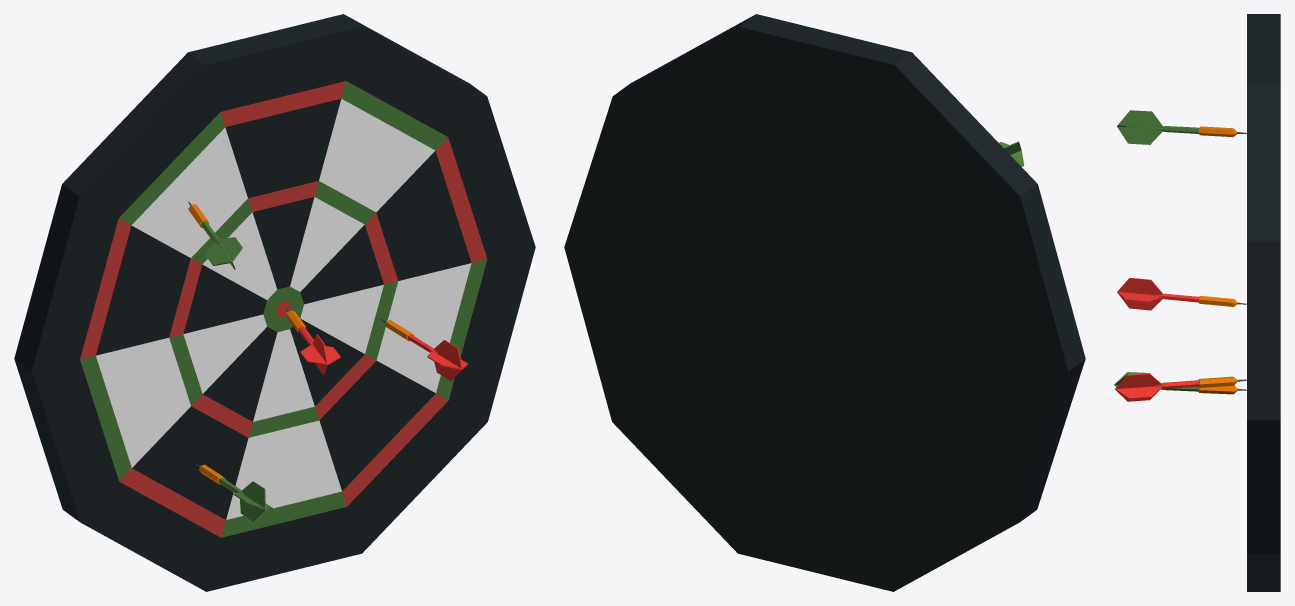
The model's file is SM_Props_Darts_01.fbx.
3 views of the same model, side by side, from view 1: azimuth 30°, elevation 25°; view 2: azimuth 150°, elevation 25°; view 3: azimuth 270°, elevation 25° (orthographic). The views are drawn at different scales.
Visible parts, largest first — view 1: SM_Props_Darts_01; view 2: SM_Props_Darts_01; view 3: SM_Props_Darts_01.
Part boxes in pixels (box(x1,y1,x2,y2)): SM_Props_Darts_01: box(14, 14, 535, 591); SM_Props_Darts_01: box(564, 14, 1085, 591); SM_Props_Darts_01: box(1114, 14, 1280, 591).
Size of the model in its own units: 0.5 by 0.5 by 0.149.
